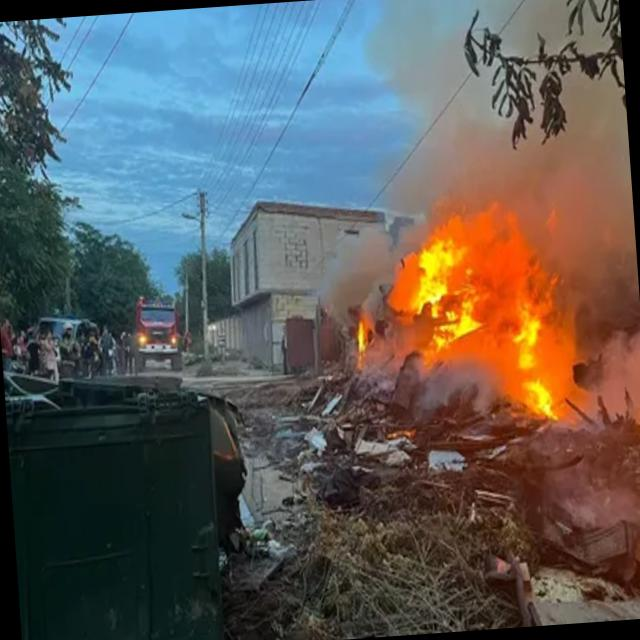Fire: (378, 222, 557, 408)
Smoke: (358, 0, 640, 342)
